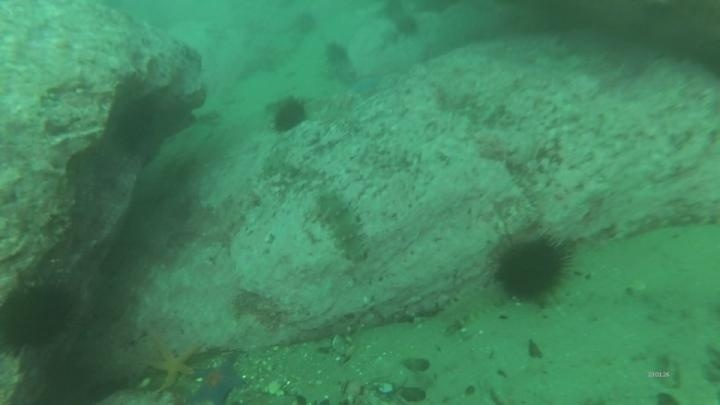echinus: (490, 232, 573, 305), (1, 279, 76, 354), (268, 95, 309, 135), (322, 40, 351, 69), (291, 10, 321, 37)
holothurian: (313, 188, 370, 264), (437, 282, 507, 333)
starfish: (143, 331, 202, 395), (189, 358, 245, 404), (347, 73, 383, 99)
